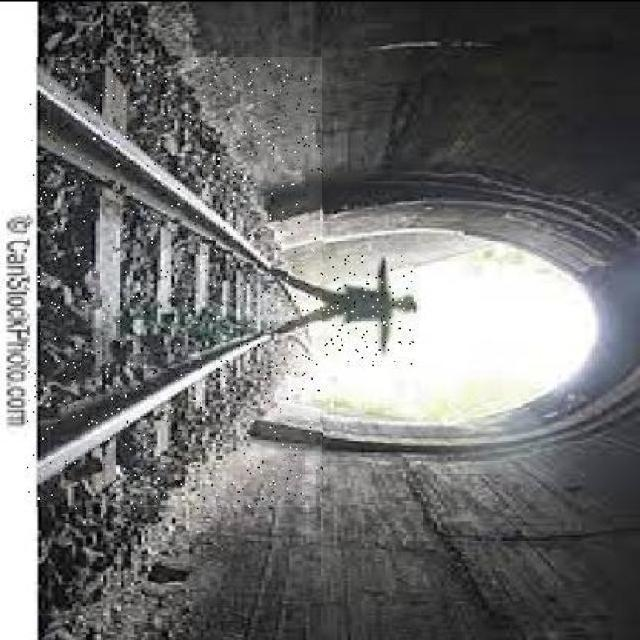rail: (29, 58, 323, 508)
